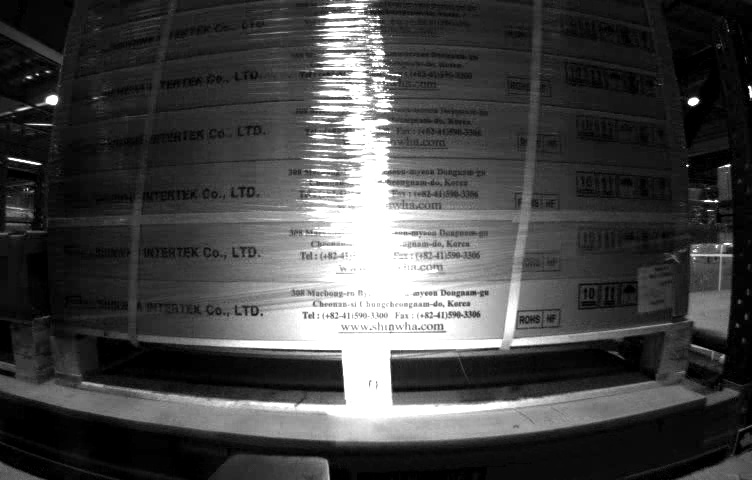True Barcode: (635, 264, 678, 312)
